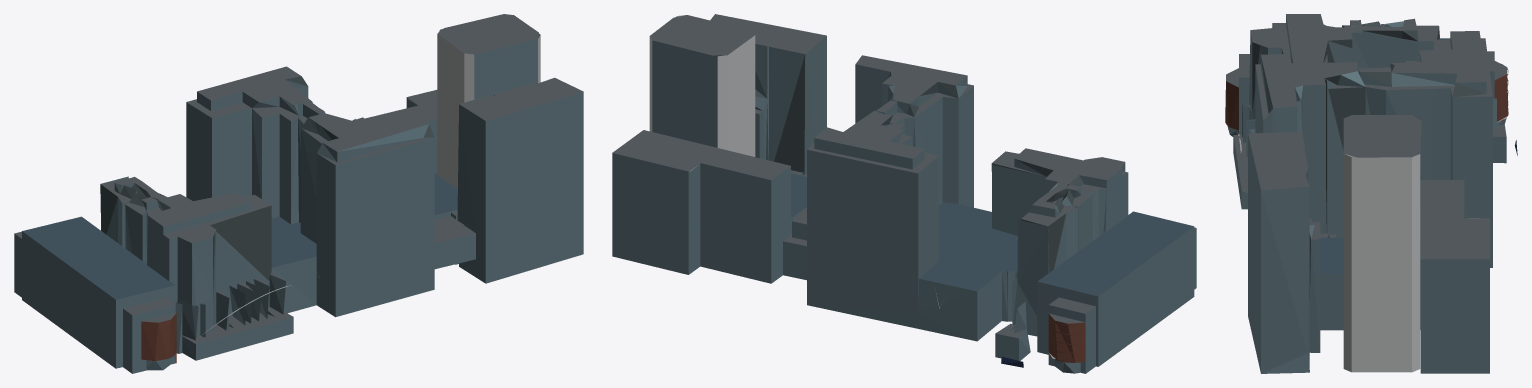
File: wtc-amsterdam.lod2.glb
3 renders of one model, left to right at view 1: azimuth 30°, elevation 25°; view 2: azimuth 150°, elevation 25°; view 3: azimuth 270°, elevation 25°, orthographic. The views are drawn at different scales.
Visible parts, largest first — view 1: lod2; view 2: lod2; view 3: lod2.
Part boxes in pixels (x1,y1,x2,y2): lod2: [14, 14, 583, 373]; lod2: [612, 14, 1196, 373]; lod2: [1225, 14, 1517, 373].
Bounding box in the file's own units: 200 × 77.99 × 96.09.
